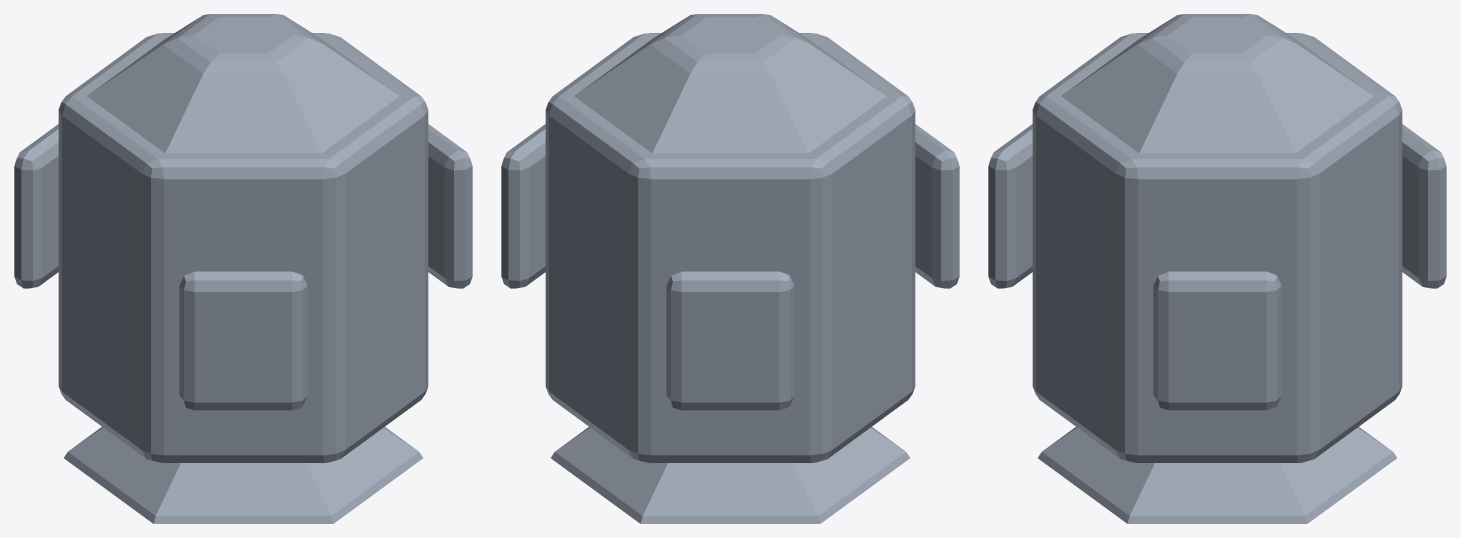
File: powerup_pod.glb
The picture shows the model from 3 angles, left to right: view 1: azimuth 30°, elevation 25°; view 2: azimuth 150°, elevation 25°; view 3: azimuth 270°, elevation 25°; orthographic projection.
Visible parts, largest first — view 1: Shell; view 2: Shell; view 3: Shell.
Boxes of the visible parts, x1,y1,x2,y2 form: Shell: (14, 14, 472, 523); Shell: (501, 14, 959, 523); Shell: (988, 14, 1446, 523).
Size of the model in its own units: 1.32 by 1.54 by 1.5.
